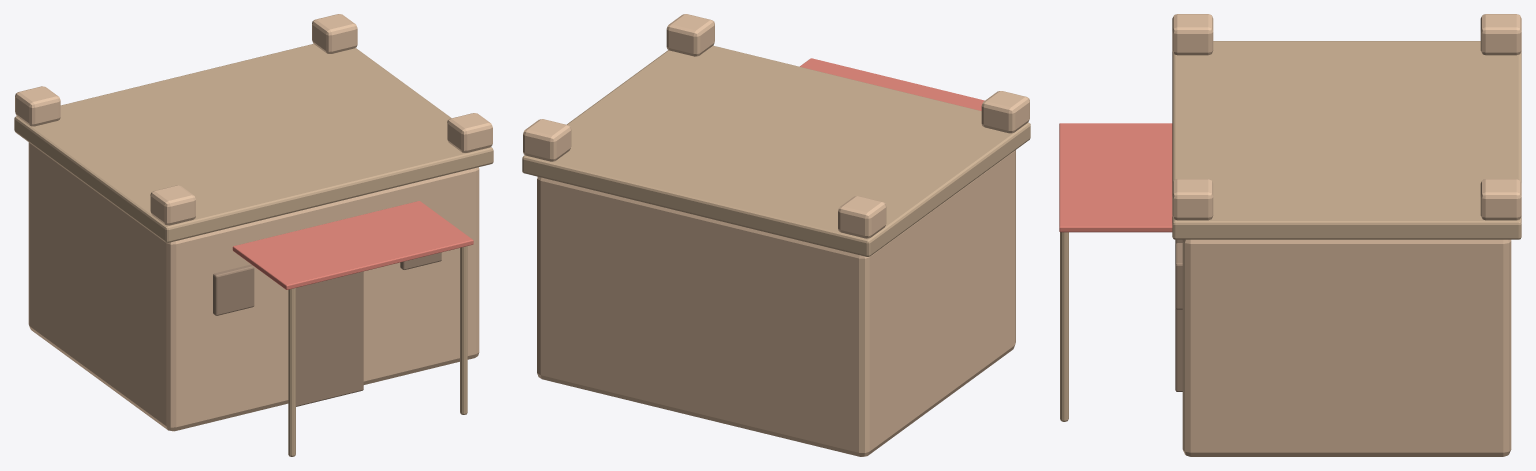
Rendered from lm_egito_adobe.glb.
The picture shows the model from 3 angles, left to right: view 1: azimuth 30°, elevation 25°; view 2: azimuth 150°, elevation 25°; view 3: azimuth 270°, elevation 25°; orthographic projection. The views are drawn at different scales.
Visible parts, largest first — view 1: lm_egito_adobe; view 2: lm_egito_adobe; view 3: lm_egito_adobe.
Boxes of the visible parts, bbox=[...] form: lm_egito_adobe: bbox=[14, 14, 493, 456]; lm_egito_adobe: bbox=[522, 14, 1030, 456]; lm_egito_adobe: bbox=[1059, 14, 1521, 456].
Bounding box in the file's own units: 4.2 × 2.9 × 4.5.
